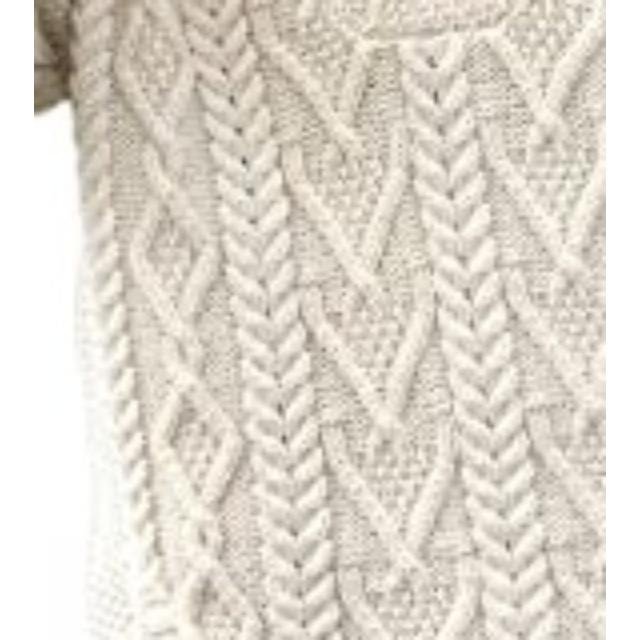wool: (34, 0, 606, 640)
